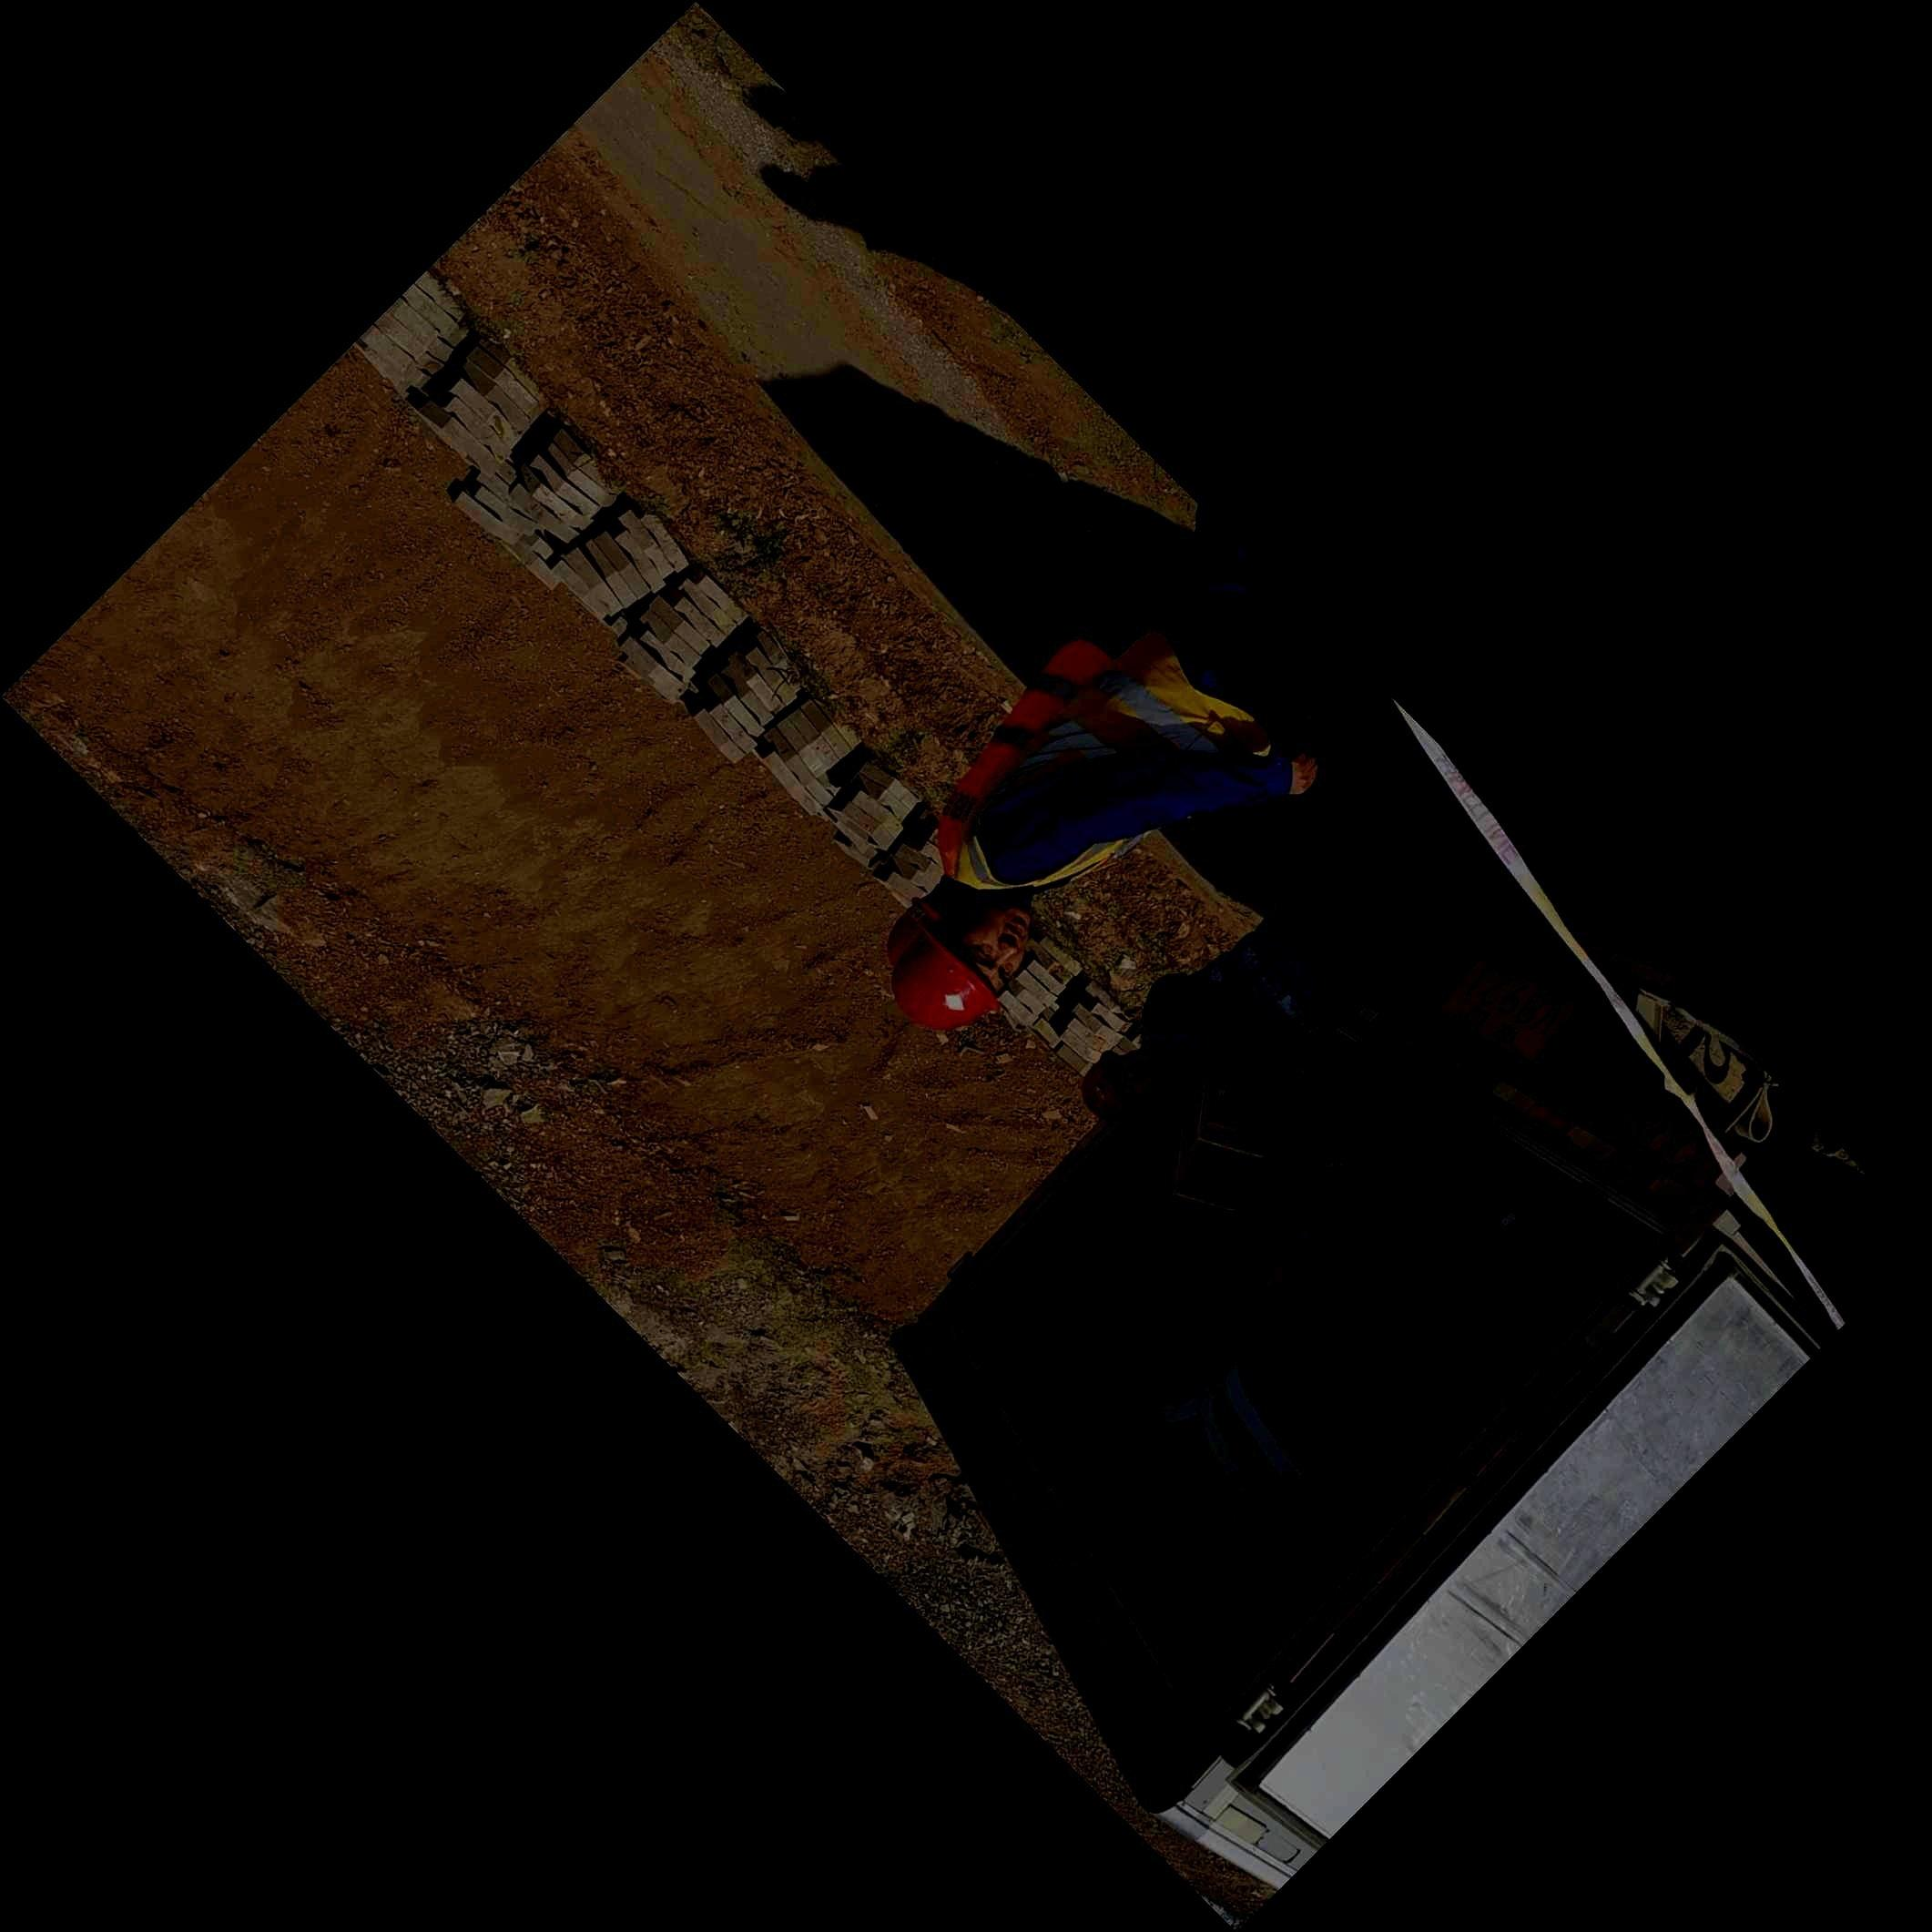helmet: (892, 899, 1031, 1033), (886, 876, 966, 968)
